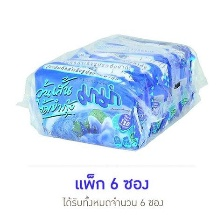snack: (9, 27, 213, 156)
